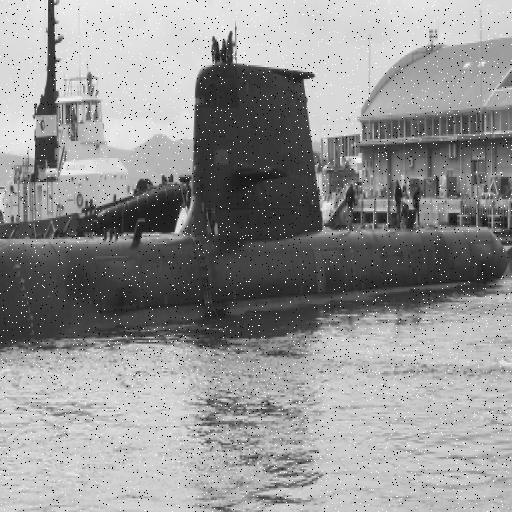submarine: (1, 63, 510, 346)
